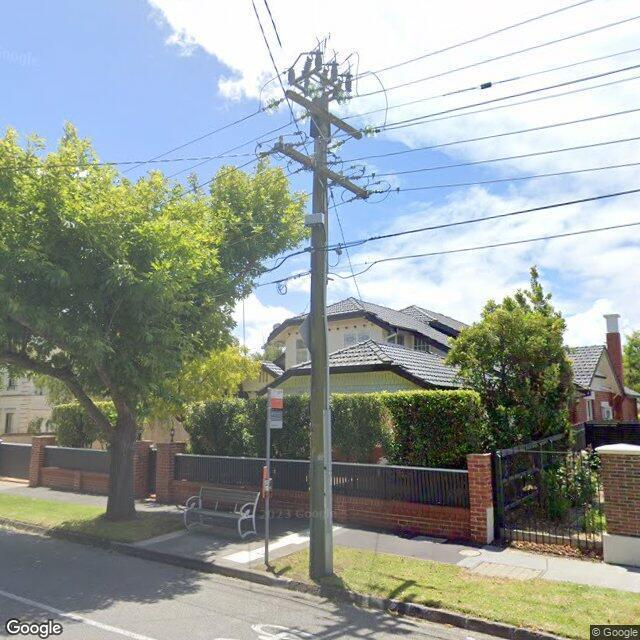HV-switch: (288, 52, 354, 102)
HV-transmission: (260, 84, 381, 154)
crossarm: (274, 143, 370, 199), (284, 89, 362, 140)
timber-pole: (308, 92, 333, 578)
